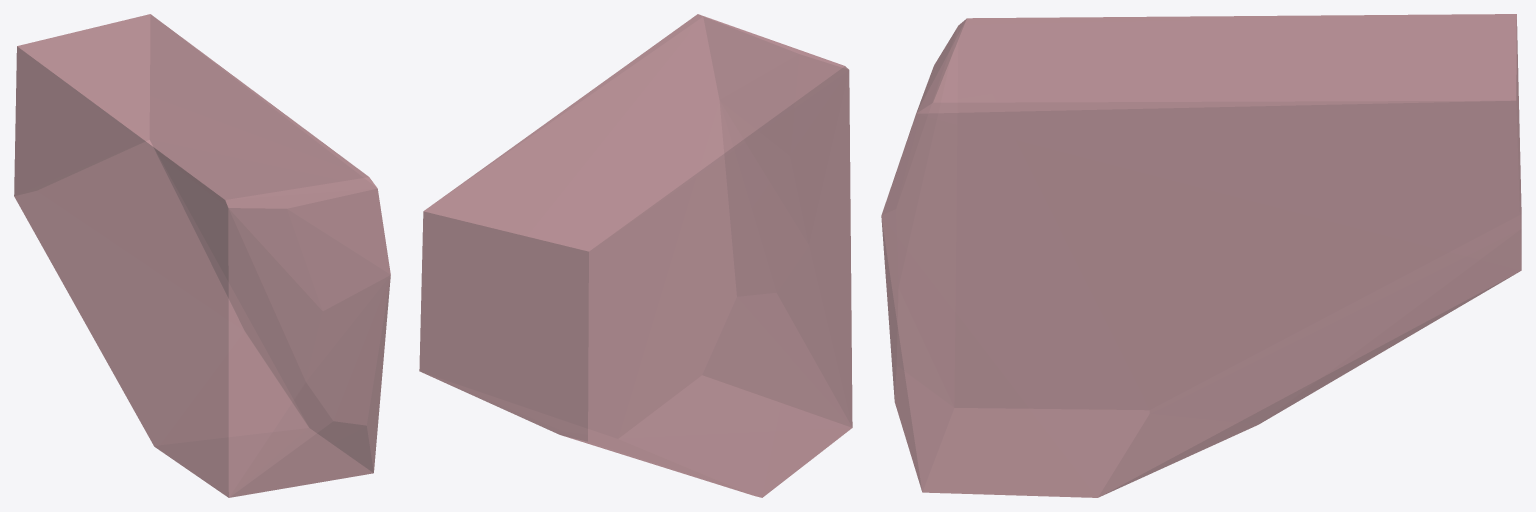
3 views of the same model, side by side, from view 1: azimuth 30°, elevation 25°; view 2: azimuth 150°, elevation 25°; view 3: azimuth 270°, elevation 25° (orthographic). The views are drawn at different scales.
Parts seen in each view (by area): view 1: Shape_IndexedFaceSet.004_Shape_IndexedFaceSet.5680; view 2: Shape_IndexedFaceSet.004_Shape_IndexedFaceSet.5680; view 3: Shape_IndexedFaceSet.004_Shape_IndexedFaceSet.5680.
Boxes of the visible parts, left/top/right/bottom form: Shape_IndexedFaceSet.004_Shape_IndexedFaceSet.5680: left=14, top=14, right=390, bottom=497; Shape_IndexedFaceSet.004_Shape_IndexedFaceSet.5680: left=419, top=14, right=852, bottom=497; Shape_IndexedFaceSet.004_Shape_IndexedFaceSet.5680: left=881, top=14, right=1521, bottom=497.
Size of the model in its own units: 0.0758 by 0.1598 by 0.2337.
